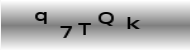7: (58, 24, 73, 39)
Q: (97, 11, 115, 27)
T: (77, 21, 92, 36)
k: (126, 16, 140, 30)
q: (34, 10, 48, 25)
